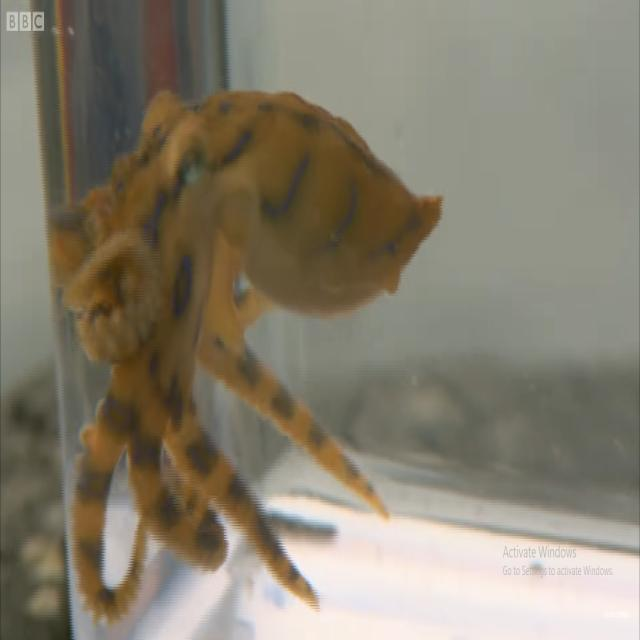blue_ringed_octopus: (46, 87, 443, 624)
